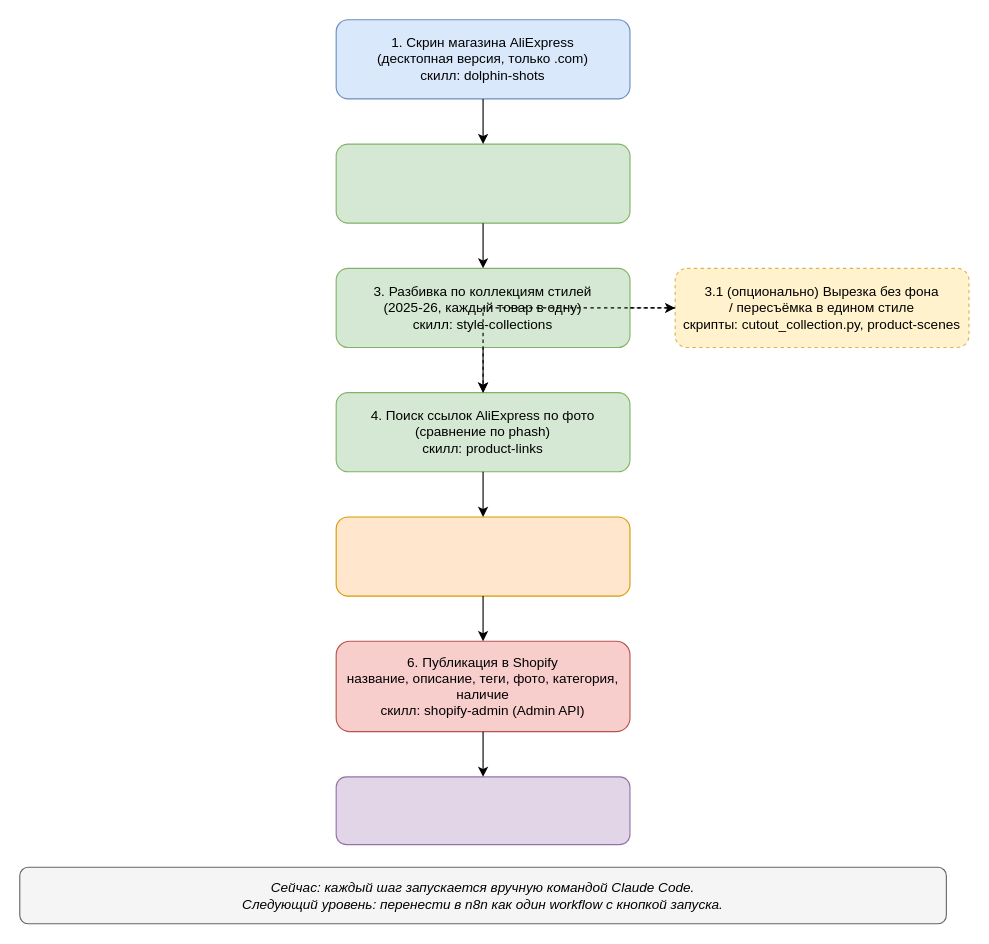
This 989x944 diagram has some shape labels left out. Here are the shapes that lost their labels. From the top down, the centre of each, then its label:
(x=482, y=183): 2. Нарезка карточек товаров (без названий/цен/рейтингов) скилл: cut-products
(x=482, y=556): 5. Импорт ссылок в DSers (Import list) скилл: dsers-import
(x=482, y=810): 7. Карточка готова в каталоге витрина ARTMELLIO
